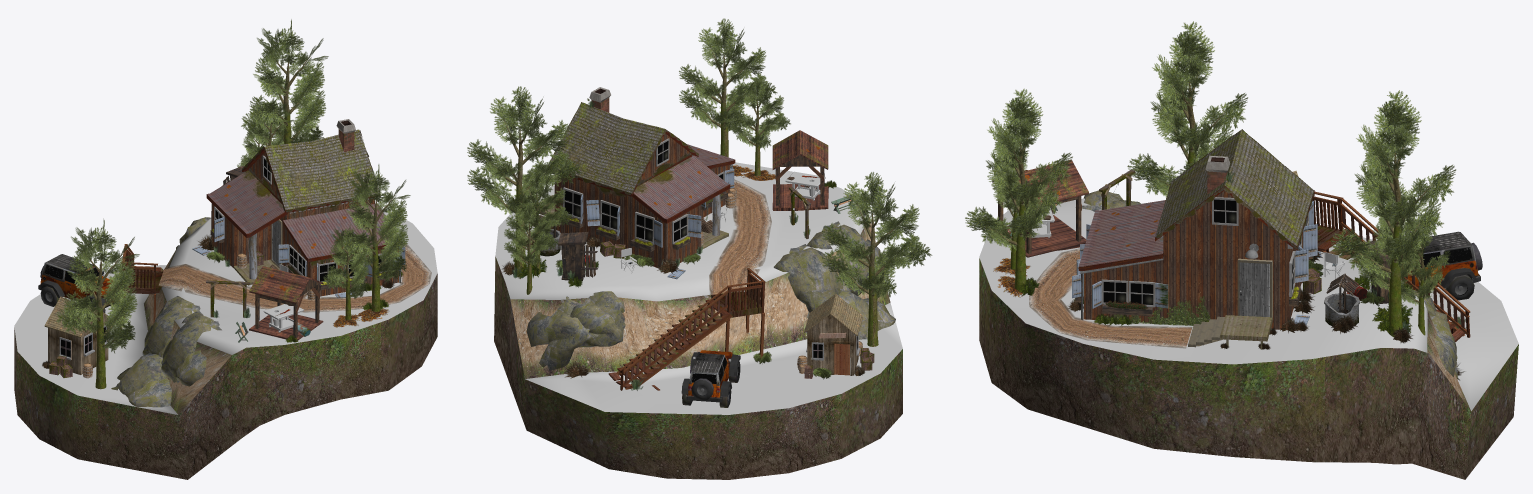
3 views of the same model, side by side, from view 1: azimuth 30°, elevation 25°; view 2: azimuth 150°, elevation 25°; view 3: azimuth 270°, elevation 25° (orthographic). The views are drawn at different scales.
Parts seen in each view (by area): view 1: groundplane_01_geo, polySurface314, Tree_04_geo, Tree_01_grp, Tree_05_geo, Decalroad_01_geo, Rock_03_geo, SkinningShedRoof_01_geo, Rock_03_geo2, Car_01_geo, Tree_06_geo, Roof_Decal_geo (+11 smaller); view 2: groundplane_01_geo, polySurface314, Tree_04_geo, Tree_01_grp, Tree_05_geo, stairs_01_grp, Decalroad_01_geo, Rock_04_geo, Rock_01_grp, Car_01_geo, Tree_06_geo, SkinningShedRoof_01_geo (+13 smaller); view 3: groundplane_01_geo, polySurface314, Tree_01_grp, Tree_05_geo, Tree_04_geo, Decalroad_01_geo, stairs_01_grp, Car_01_geo, Roof_Decal_geo, SkinningShedRoof_01_geo, Tree_02_geo, Tree_03_geo (+7 smaller).
Boxes of the visible parts, bbox=[...] form: groundplane_01_geo: bbox=[14, 207, 437, 479]; polySurface314: bbox=[192, 119, 405, 298]; Tree_04_geo: bbox=[55, 218, 139, 389]; Tree_01_grp: bbox=[241, 19, 328, 144]; Tree_05_geo: bbox=[336, 164, 410, 311]; Decalroad_01_geo: bbox=[158, 244, 431, 312]; Rock_03_geo: bbox=[161, 311, 221, 386]; SkinningShedRoof_01_geo: bbox=[249, 266, 323, 341]; Rock_03_geo2: bbox=[111, 353, 171, 407]; Car_01_geo: bbox=[38, 254, 127, 312]; Tree_06_geo: bbox=[323, 224, 369, 320]; Roof_Decal_geo: bbox=[264, 129, 370, 209]; groundplane_01_geo: bbox=[494, 162, 902, 479]; polySurface314: bbox=[535, 87, 735, 279]; Tree_04_geo: bbox=[821, 172, 932, 346]; Tree_01_grp: bbox=[467, 86, 582, 276]; Tree_05_geo: bbox=[679, 18, 777, 157]; stairs_01_grp: bbox=[608, 268, 765, 390]; Decalroad_01_geo: bbox=[709, 179, 771, 294]; Rock_04_geo: bbox=[773, 244, 852, 312]; Rock_01_grp: bbox=[526, 296, 589, 370]; Car_01_geo: bbox=[681, 350, 740, 407]; Tree_06_geo: bbox=[729, 77, 790, 175]; SkinningShedRoof_01_geo: bbox=[772, 130, 828, 210]; groundplane_01_geo: bbox=[979, 198, 1518, 479]; polySurface314: bbox=[1072, 130, 1321, 349]; Tree_01_grp: bbox=[1330, 90, 1455, 337]; Tree_05_geo: bbox=[965, 88, 1072, 290]; Tree_04_geo: bbox=[1127, 21, 1247, 197]; Decalroad_01_geo: bbox=[1029, 248, 1192, 348]; stairs_01_grp: bbox=[1312, 191, 1470, 341]; Car_01_geo: bbox=[1403, 231, 1482, 300]; Roof_Decal_geo: bbox=[1165, 130, 1306, 243]; SkinningShedRoof_01_geo: bbox=[992, 160, 1088, 257]; Tree_02_geo: bbox=[1401, 216, 1450, 335]; Tree_03_geo: bbox=[1358, 181, 1431, 291].
Bounding box in the file's own units: 2445 × 1932 × 2380.
